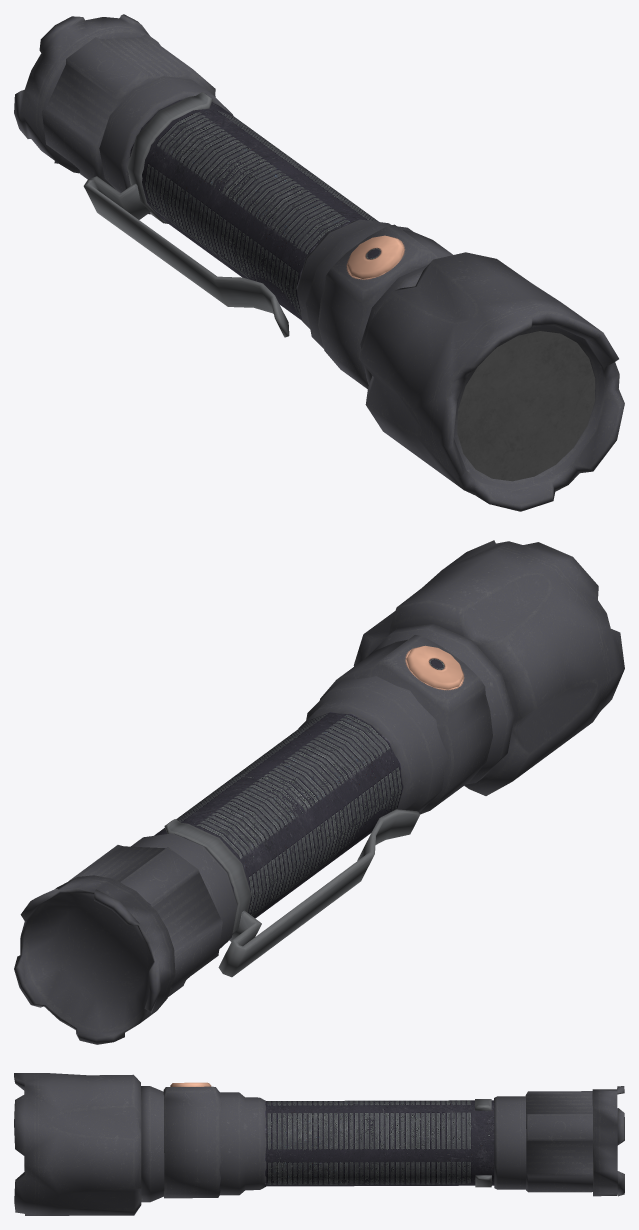
Rendered from flashlight.obj.
3 renders of one model, top to bottom at view 1: azimuth 30°, elevation 25°; view 2: azimuth 150°, elevation 25°; view 3: azimuth 270°, elevation 25°, orthographic. The views are drawn at different scales.
Parts seen in each view (by area): view 1: Object_4; view 2: Object_4; view 3: Object_4.
Boxes of the visible parts, x1,y1,x2,y2 form: Object_4: (14, 14, 624, 511); Object_4: (14, 540, 624, 1044); Object_4: (14, 1073, 624, 1215).
Size of the model in its own units: 0.0303 by 0.0303 by 0.1301.
1 material, 1 textured.
